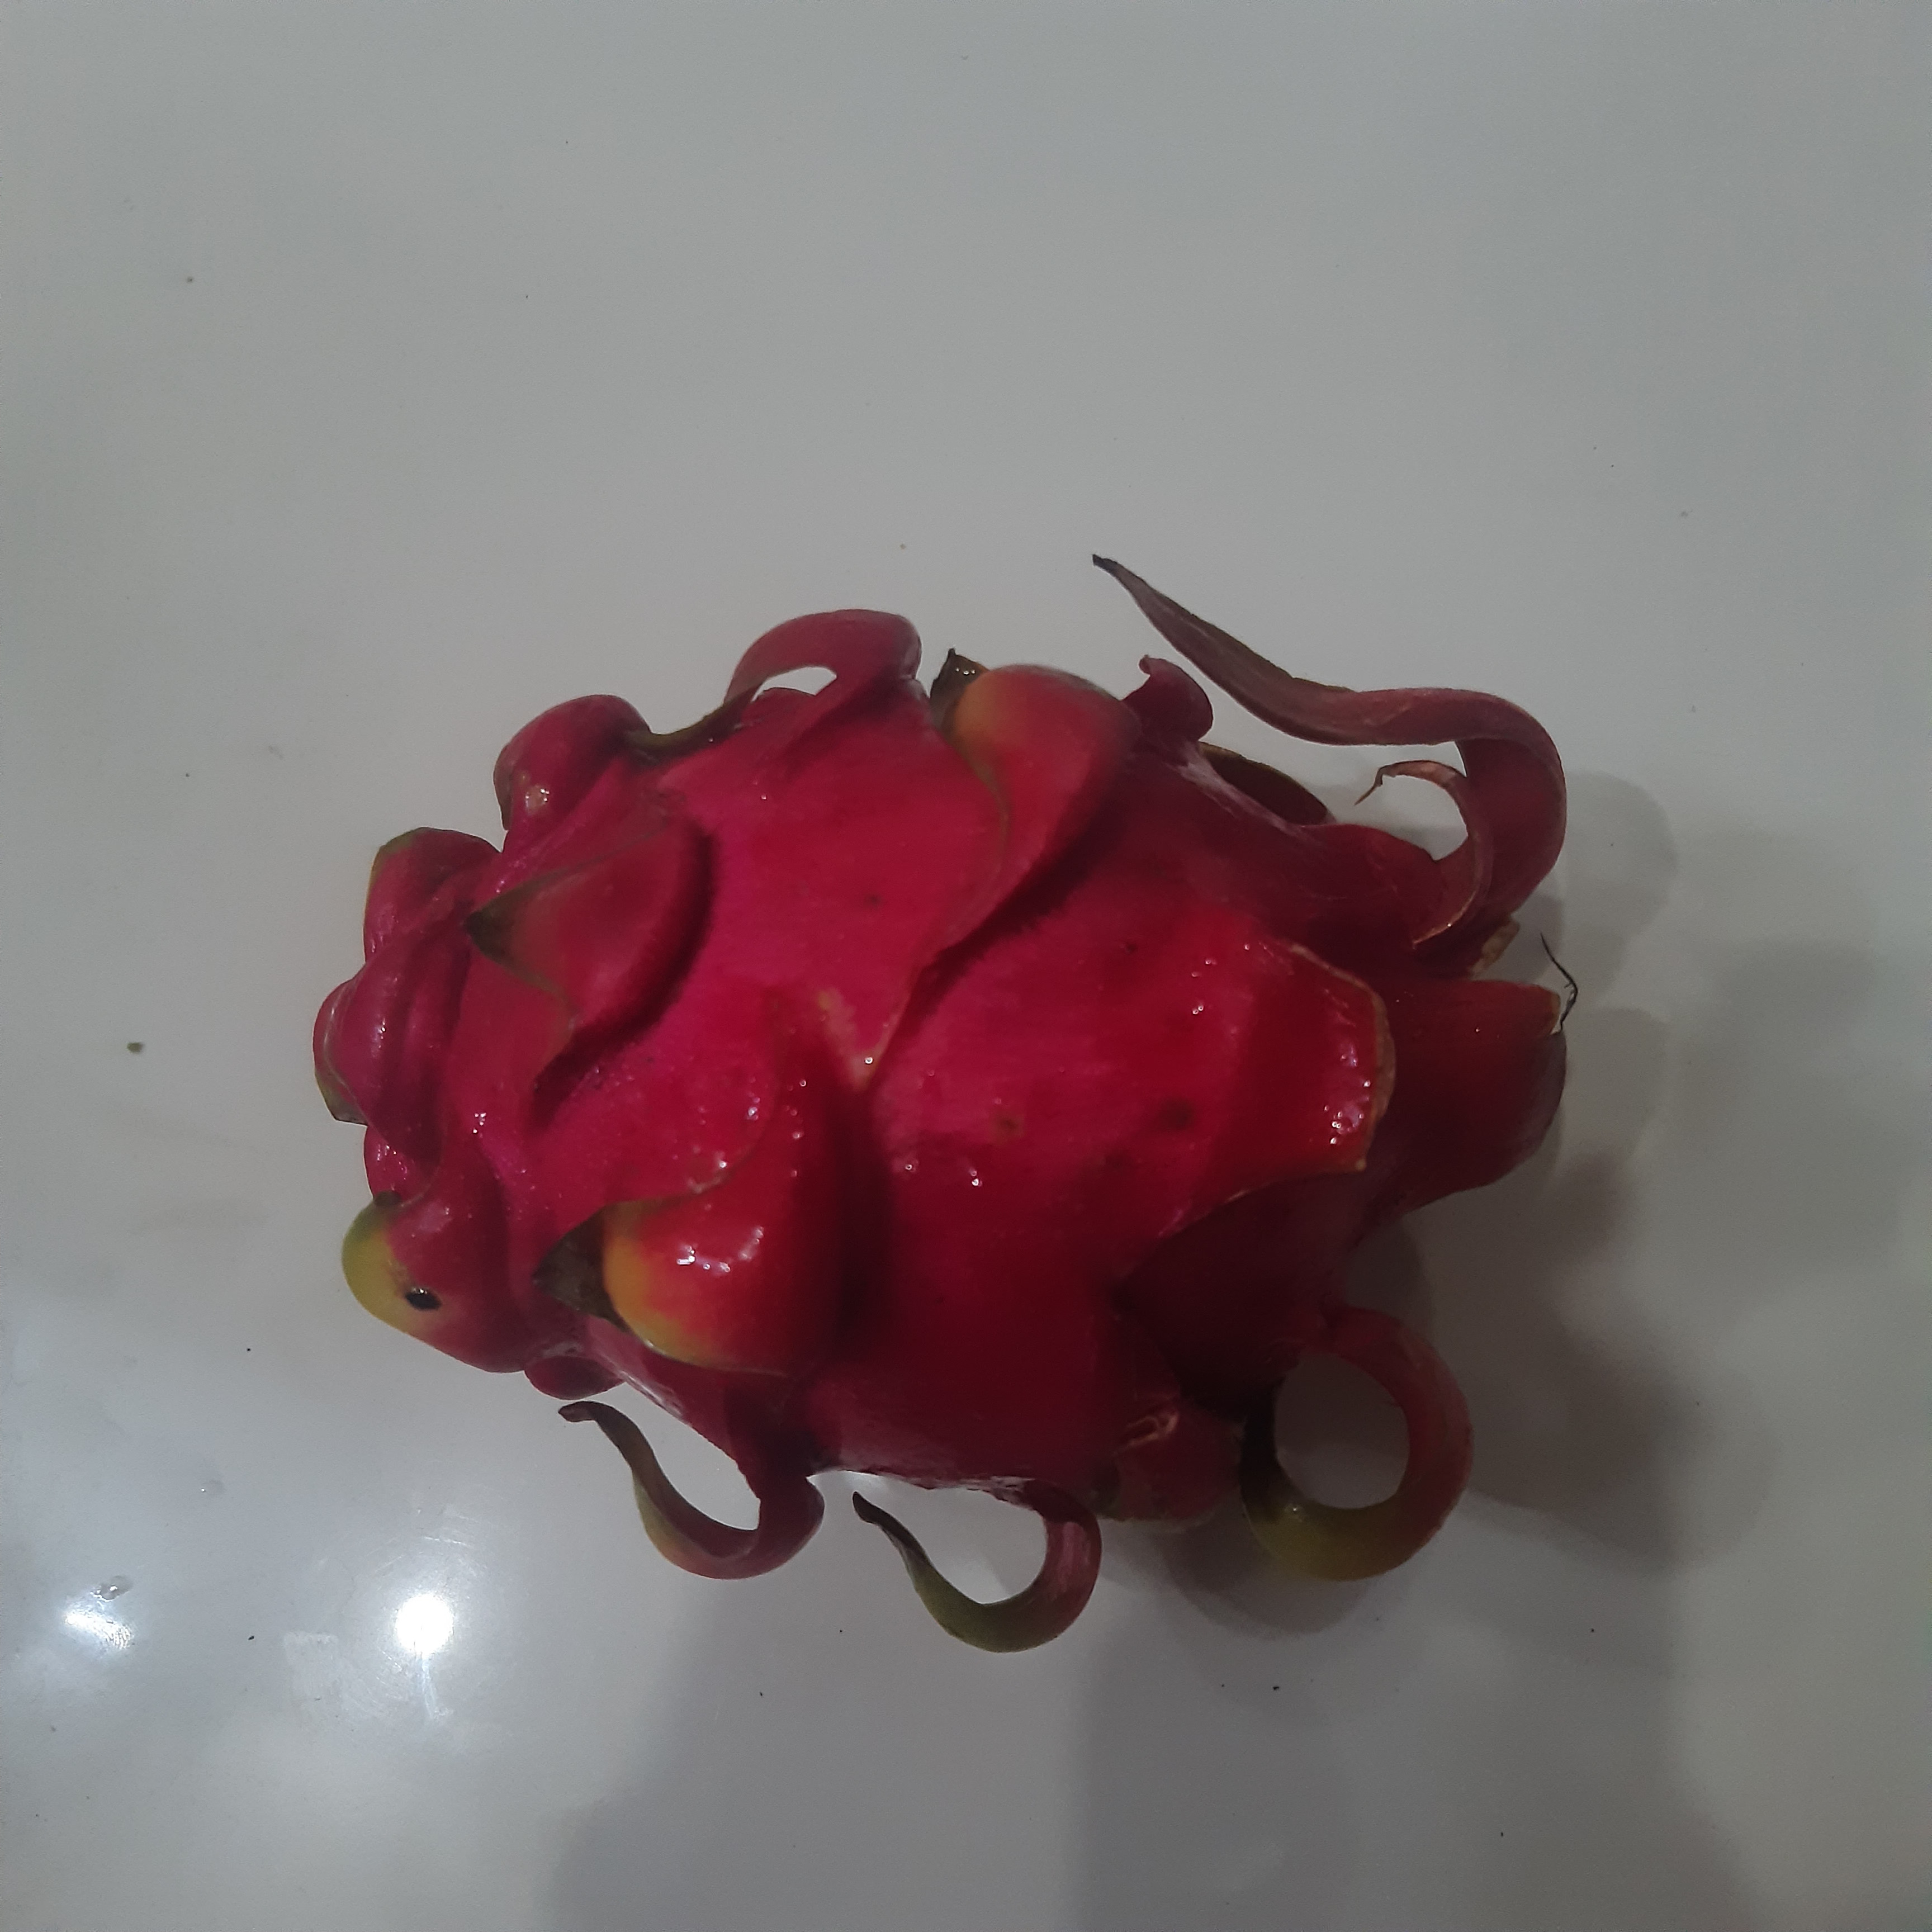Thanh long: (315, 602, 1573, 1578)
